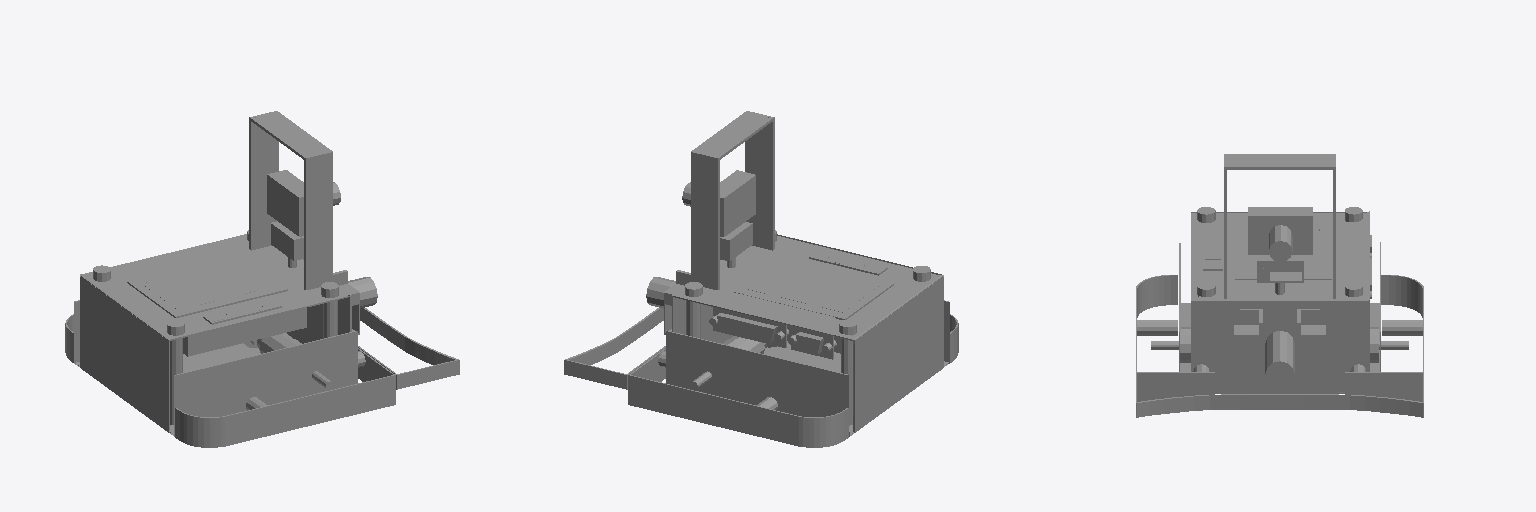
File: LabBot.obj
3 views of the same model, side by side, from view 1: azimuth 30°, elevation 25°; view 2: azimuth 150°, elevation 25°; view 3: azimuth 270°, elevation 25° (orthographic).
Parts seen in each view (by area): view 1: <MS3DRoot>.001; view 2: <MS3DRoot>.001; view 3: <MS3DRoot>.001.
Part boxes in pixels (x1,y1,x2,y2): <MS3DRoot>.001: (65, 111, 459, 447); <MS3DRoot>.001: (564, 111, 958, 447); <MS3DRoot>.001: (1136, 154, 1423, 417).
Size of the model in its own units: 0.1877 by 0.1539 by 0.1786.